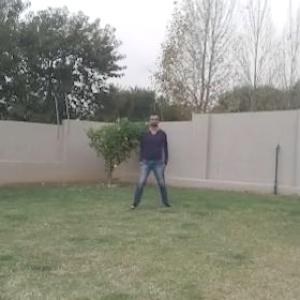follow: (146, 110, 169, 206)
